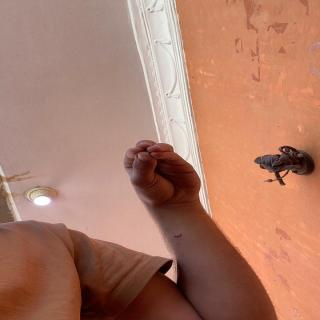HA: (115, 132, 215, 210)
